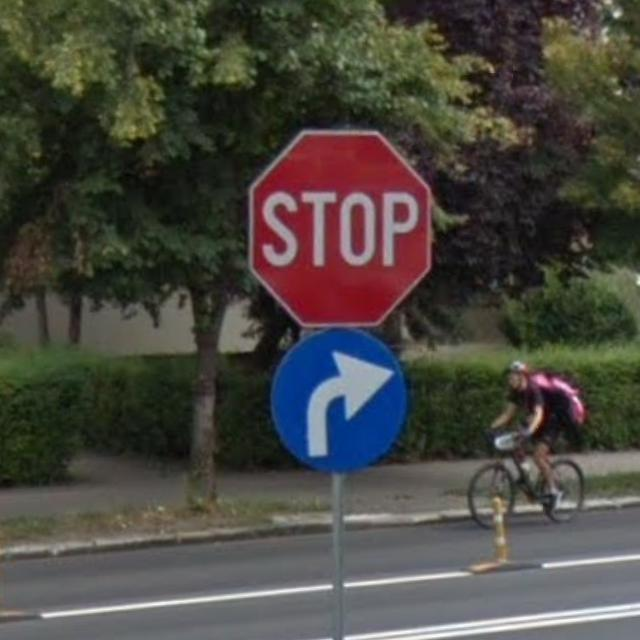prio_stop: (247, 129, 432, 330)
